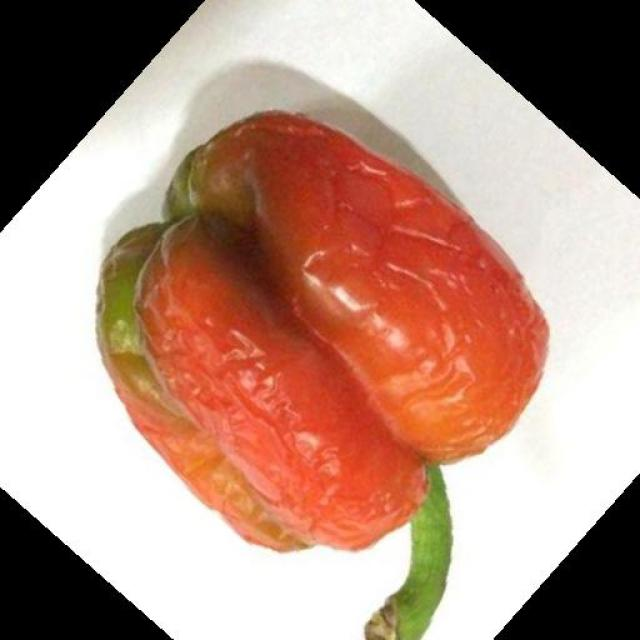Stale_Capsicum: (102, 100, 568, 570)
